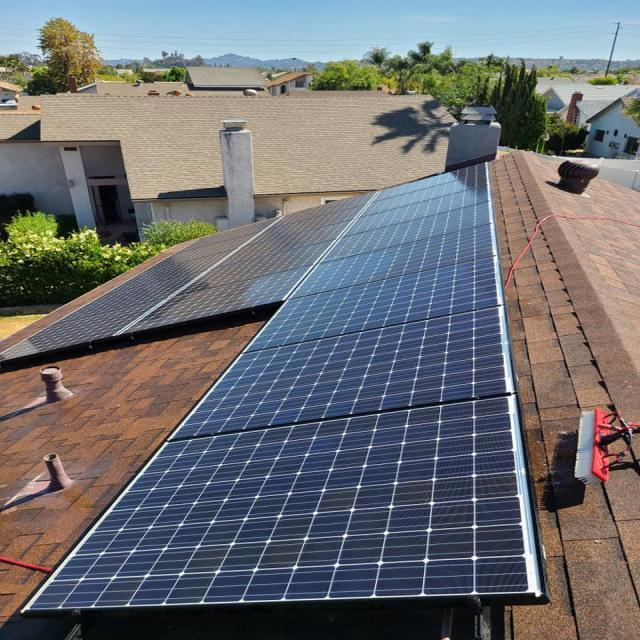Non Defective: (3, 165, 542, 615), (27, 398, 535, 611), (175, 308, 508, 439), (253, 258, 498, 349)
